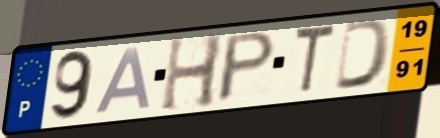9: (48, 48, 98, 122)
A: (91, 44, 154, 116)
D: (332, 17, 394, 93)
H: (158, 32, 227, 115)
P: (213, 29, 279, 106)
T: (291, 21, 338, 96)
